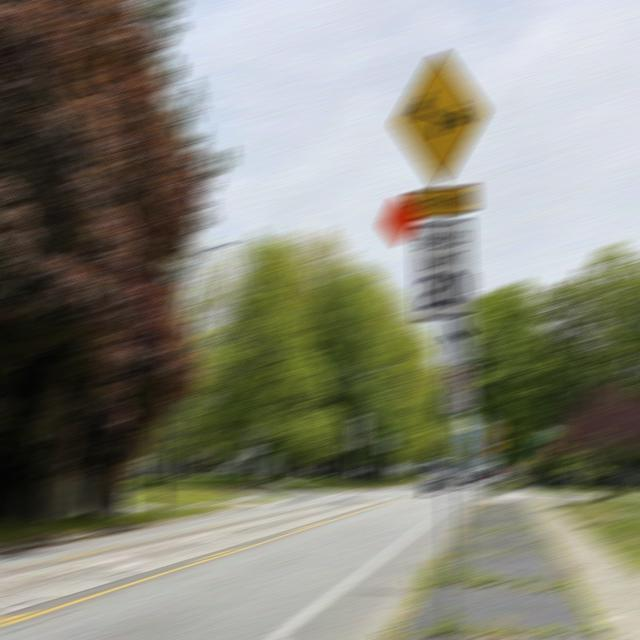speedLimit20: (414, 223, 471, 314)
